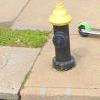a fire hydrant: (48, 2, 76, 71)
